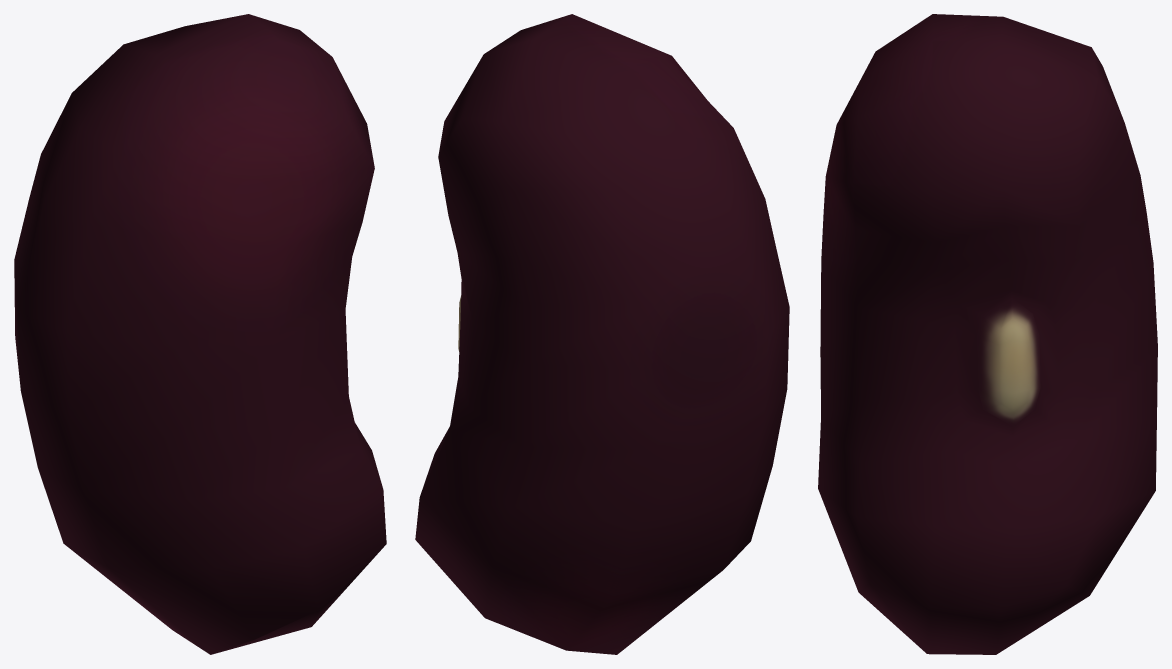
The model's file is redbean4.fbx.
3 renders of one model, left to right at view 1: azimuth 30°, elevation 25°; view 2: azimuth 150°, elevation 25°; view 3: azimuth 270°, elevation 25°, orthographic.
Parts seen in each view (by area): view 1: Cube.018; view 2: Cube.018; view 3: Cube.018.
Boxes of the visible parts, bbox=[...] form: Cube.018: bbox=[14, 14, 386, 654]; Cube.018: bbox=[415, 14, 789, 654]; Cube.018: bbox=[818, 14, 1157, 654].
Bounding box in the file's own units: 180 × 307 × 157.
